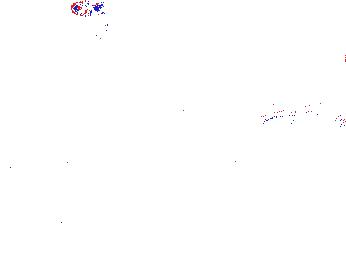glassfish: (249, 102, 346, 132)
red belly glassfish: (69, 1, 99, 17), (104, 17, 115, 38)
